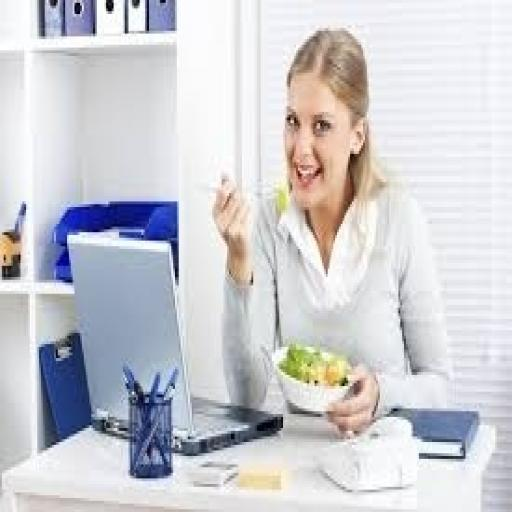eating: (208, 22, 452, 436)
